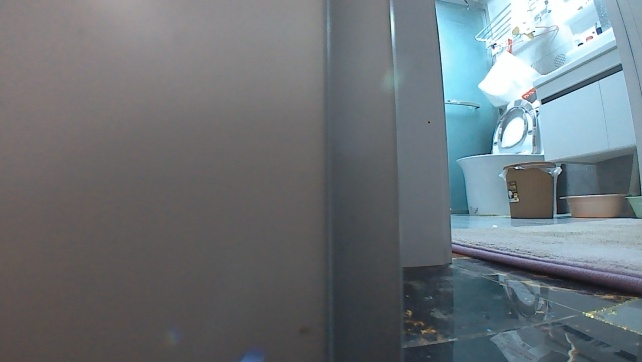blanket: (447, 215, 641, 297)
toilet: (452, 95, 549, 218)
